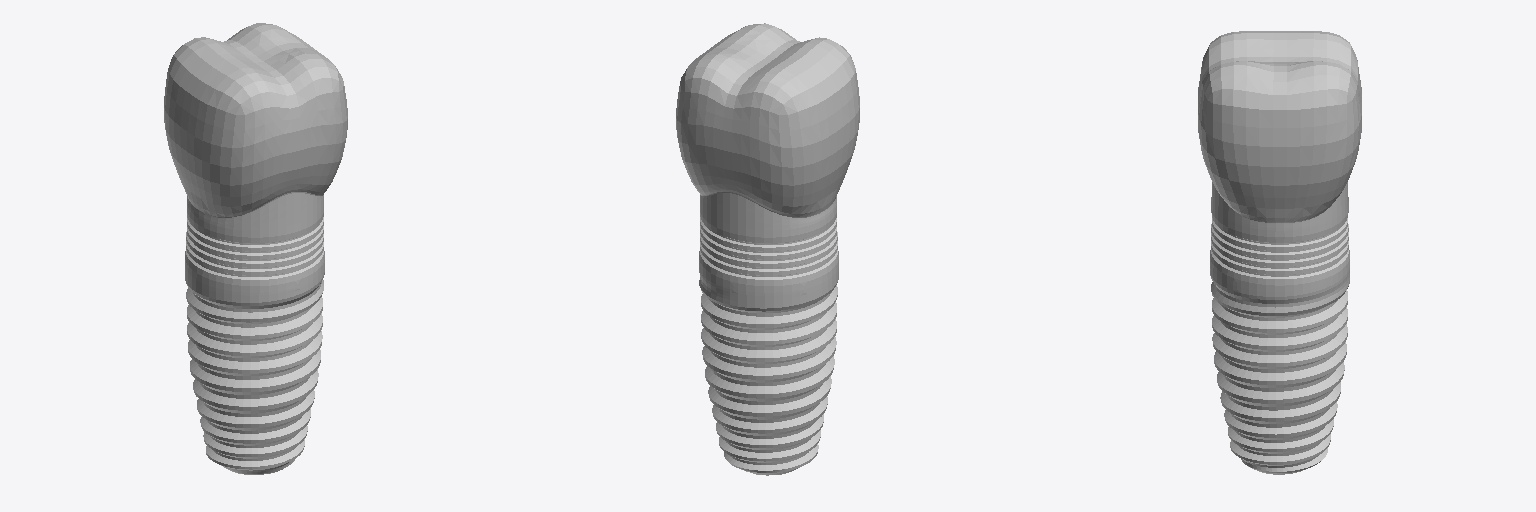
The model's file is implant.obj.
The picture shows the model from 3 angles: view 1: azimuth 30°, elevation 25°; view 2: azimuth 150°, elevation 25°; view 3: azimuth 270°, elevation 25°; orthographic projection.
Visible parts, largest first — view 1: Implant_crown_Circle.001_Implant_crown_Circle.003; view 2: Implant_crown_Circle.001_Implant_crown_Circle.003; view 3: Implant_crown_Circle.001_Implant_crown_Circle.003.
Part boxes in pixels (bbox=[...]): Implant_crown_Circle.001_Implant_crown_Circle.003: bbox=[164, 23, 347, 474]; Implant_crown_Circle.001_Implant_crown_Circle.003: bbox=[676, 23, 859, 475]; Implant_crown_Circle.001_Implant_crown_Circle.003: bbox=[1198, 31, 1361, 474].
Size of the model in its own units: 6.08 by 16.68 by 5.99.